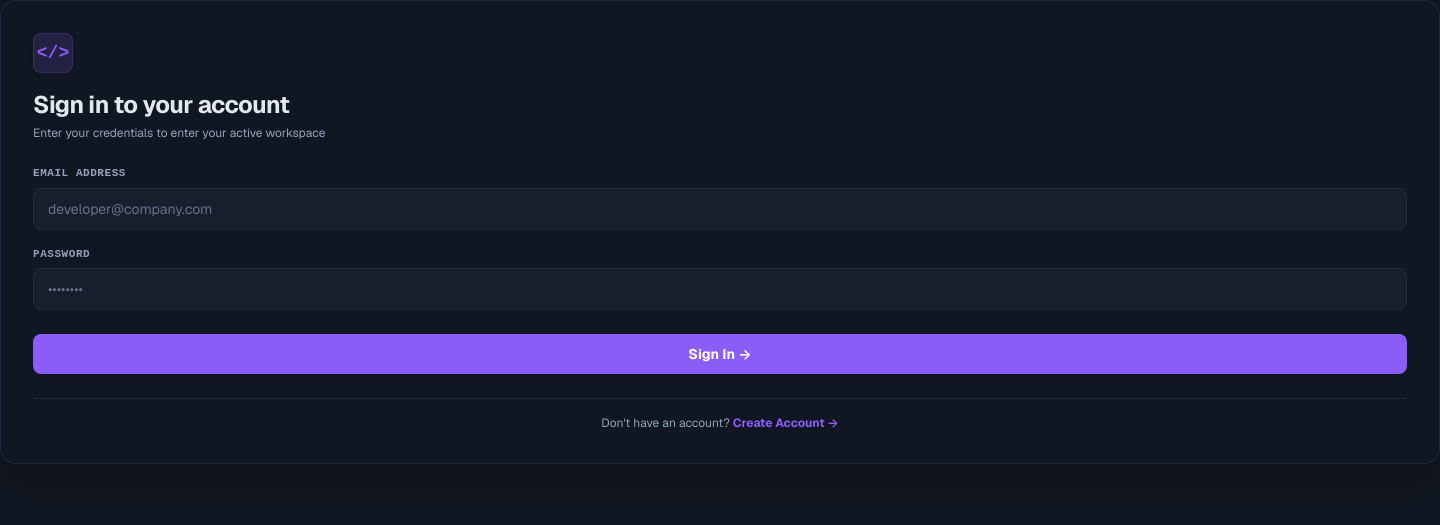
Test: Auth Store & Authentication Flow Tests › LoginForm Rendering & Validation › should display validation errors when fields are empty
The image size is (1440, 525).
Click the button "Sign In →". click: (720, 354)
box: [33,334,1407,374]
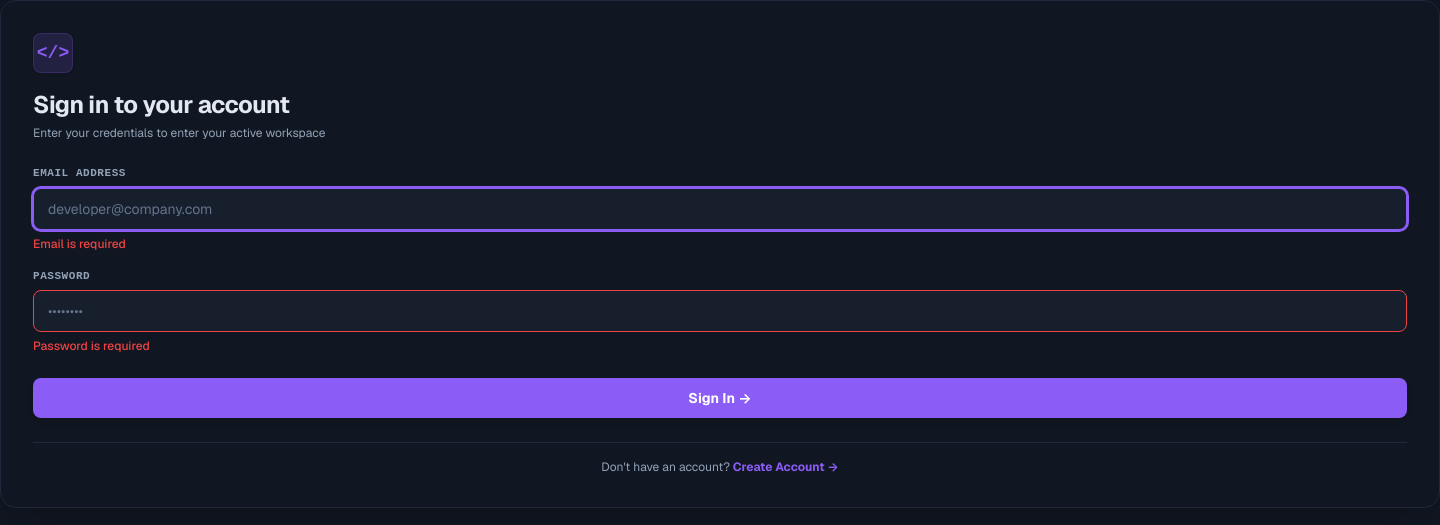
expect the text "Email is required" is shown: met, box [33,236,126,252]
expect the text "Password is required" is shown: met, box [33,338,150,354]
